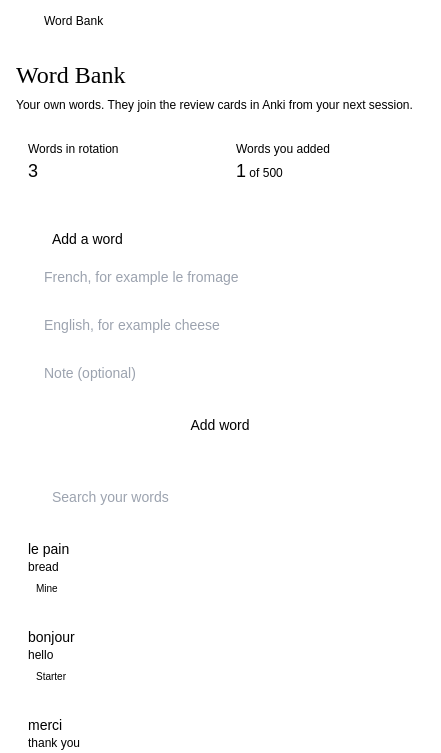
it: Word Bank screen › searches
expect the text "le pain" is shown: met, box left=28, top=541, right=69, bottom=557
Type "thank" into the field labelled "Search your words" at (220,497), box left=16, top=477, right=424, bottom=517
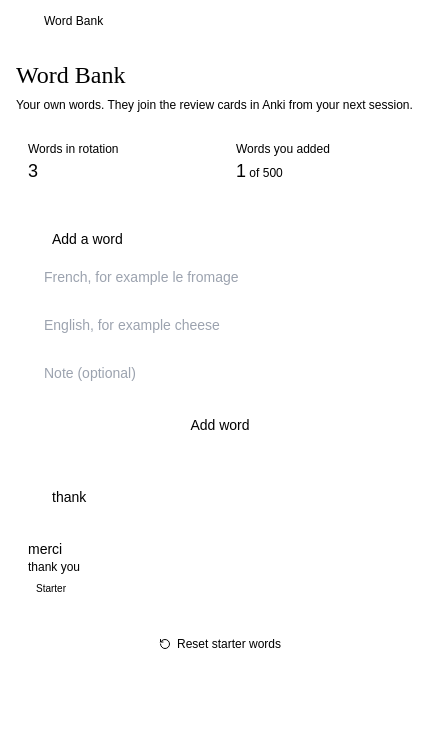
expect the text "merci" is shown: met, box left=28, top=541, right=62, bottom=557
expect the text "le pain" is gone: met
